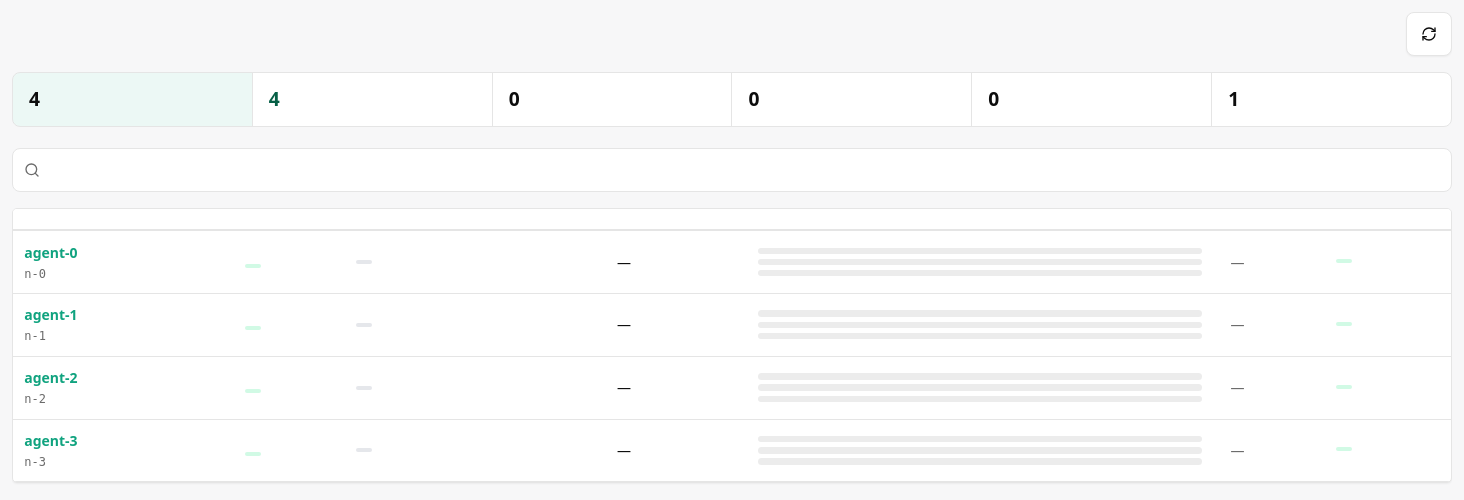
Test: NodesPage cluster summary › counts LEFT tombstones as history instead of active nodes
This screenshot has width=1464, height=500.
Check: the 1st text with class "summary-value" reads "4", box [29,85,40,112]
Check: the 2nd text with class "summary-value" reads "4", box [269,85,280,112]
Click the button "1": (1332, 99) [1212,73,1451,126]
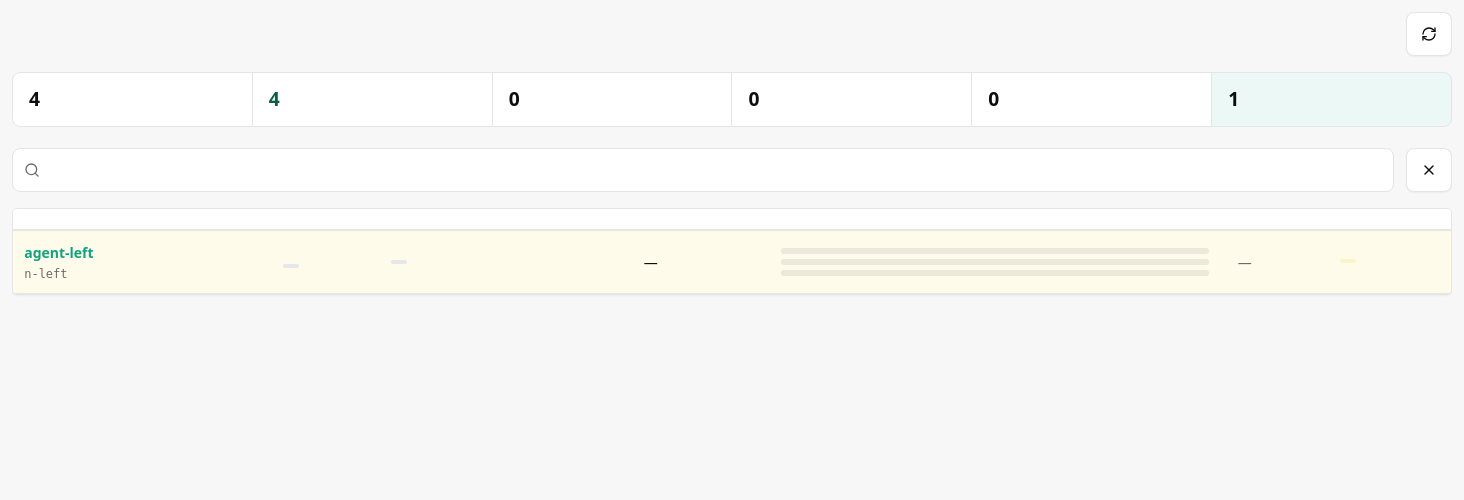
Check: the number of rows with class "data-row" is 1, box [13,231,1451,294]
Check: the row with class "data-row" shows "agent-left", box [24,242,94,263]
